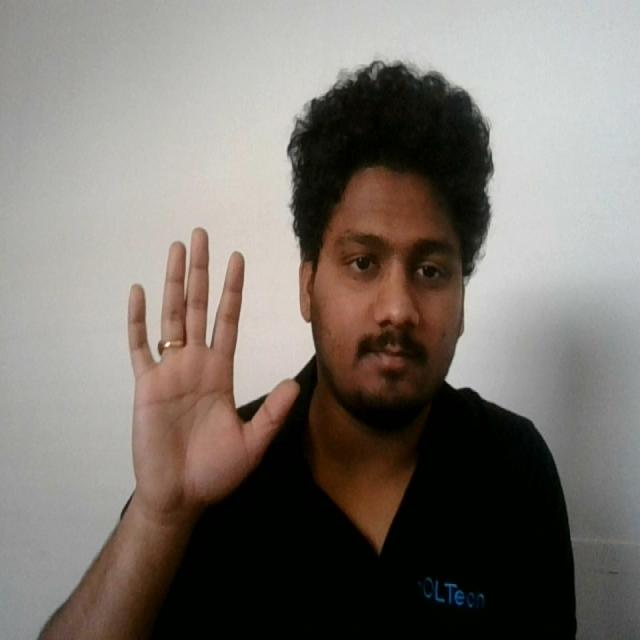Hello: (120, 218, 304, 529)
